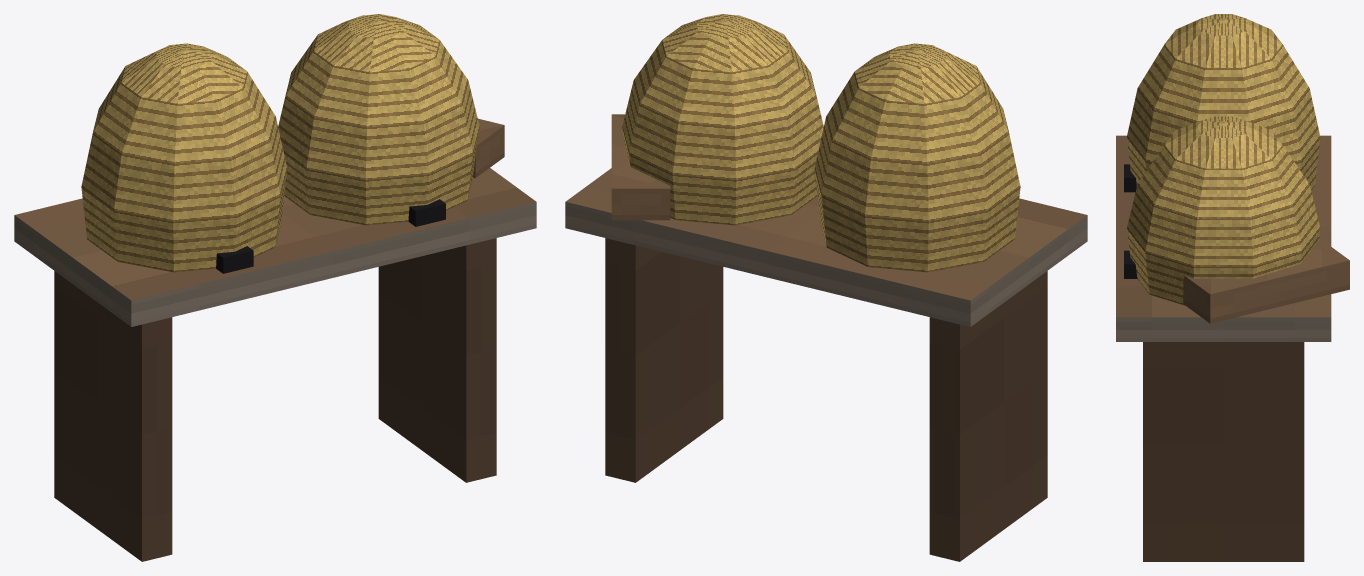
Rendered from beehive-skep.glb.
3 renders of one model, left to right at view 1: azimuth 30°, elevation 25°; view 2: azimuth 150°, elevation 25°; view 3: azimuth 270°, elevation 25°, orthographic. The views are drawn at different scales.
Visible parts, largest first — view 1: beehive-skep.001; view 2: beehive-skep.001; view 3: beehive-skep.001.
Part boxes in pixels (bbox=[...]): beehive-skep.001: bbox=[14, 14, 536, 561]; beehive-skep.001: bbox=[565, 14, 1087, 561]; beehive-skep.001: bbox=[1116, 14, 1349, 561].
Size of the model in its own units: 0.8383 by 0.865 by 0.4349.
1 material, 1 textured.
